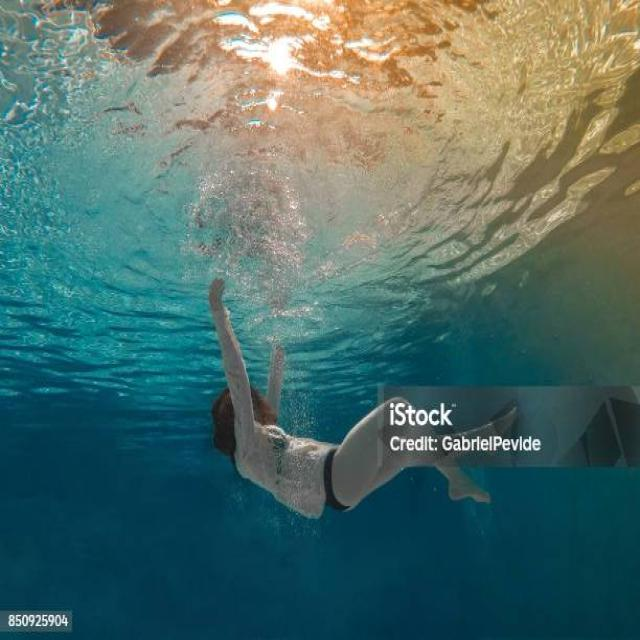drowning: (161, 253, 527, 566)
